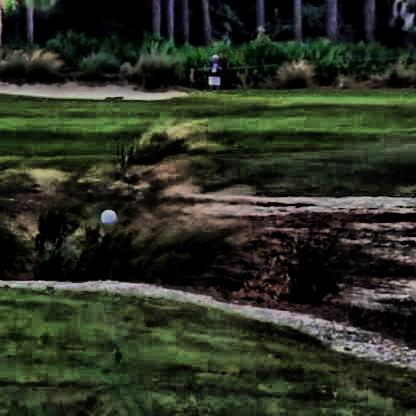golfball: (99, 206, 115, 222)
